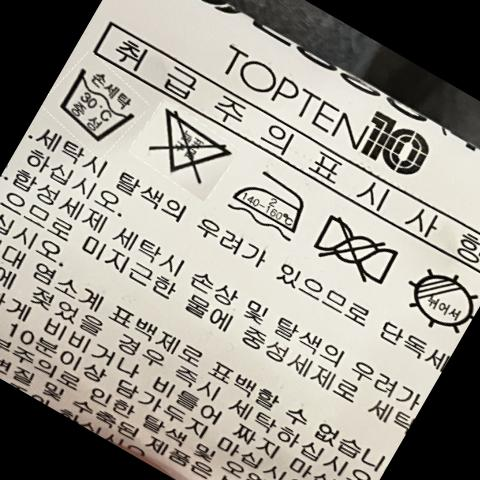DN_wring: (311, 218, 409, 283)
dry_flat_in_shade: (409, 272, 477, 330)
hand_wash: (66, 69, 143, 144)
iron_medium: (231, 172, 311, 234)
non_chlorine_bleach: (158, 112, 229, 178)
